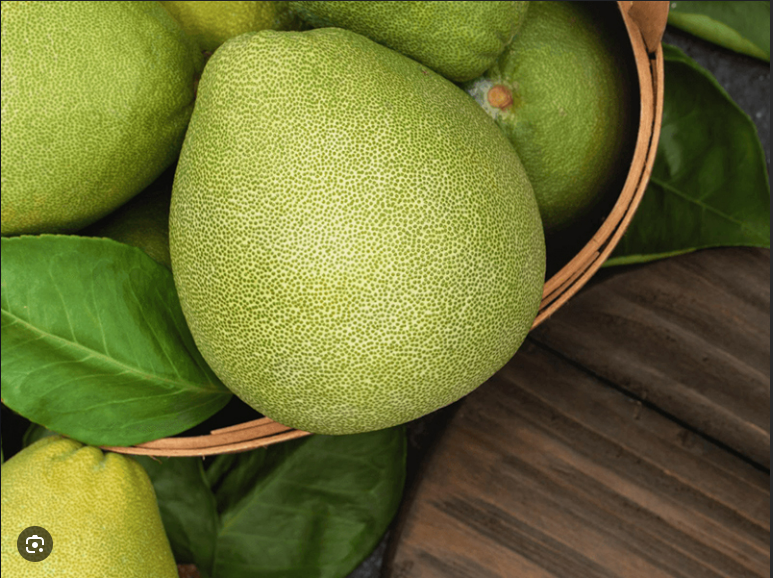buoi: (169, 25, 548, 438), (434, 2, 644, 252), (1, 2, 198, 234), (1, 423, 183, 576)
